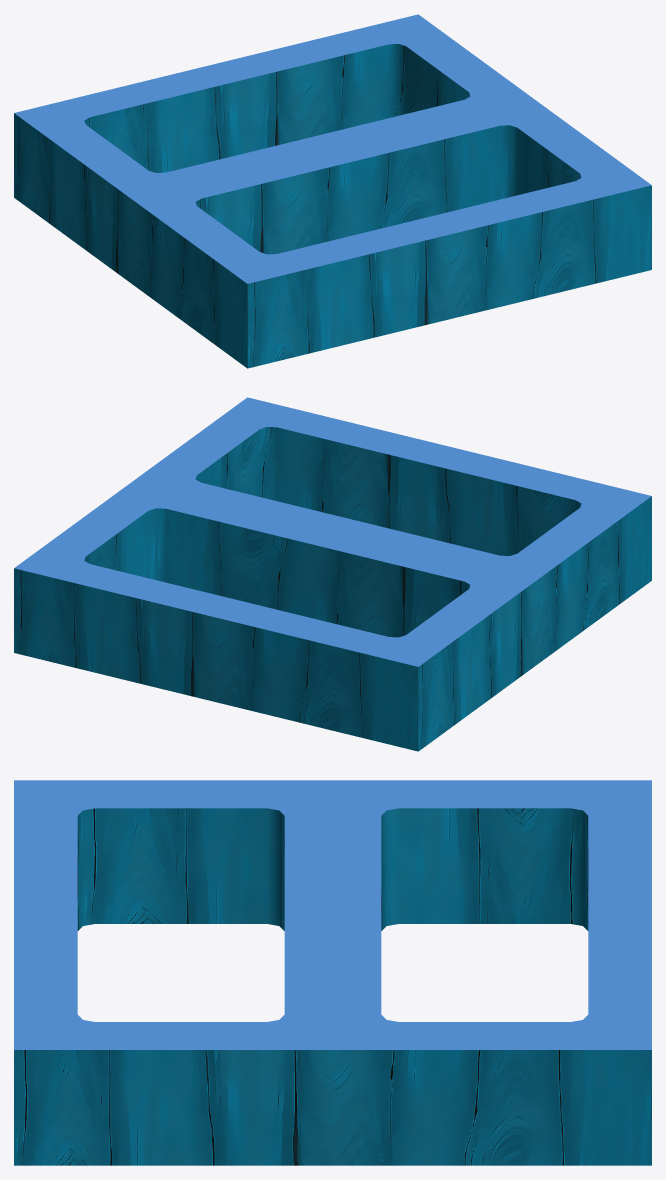
Rendered from M_Tile_Hole_2.fbx.
3 renders of one model, top to bottom at view 1: azimuth 30°, elevation 25°; view 2: azimuth 150°, elevation 25°; view 3: azimuth 270°, elevation 25°, orthographic. The views are drawn at different scales.
Visible parts, largest first — view 1: Hole_2; view 2: Hole_2; view 3: Hole_2.
Part boxes in pixels (left/top/right/bottom): Hole_2: left=14, top=14, right=651, bottom=368; Hole_2: left=14, top=397, right=651, bottom=751; Hole_2: left=14, top=780, right=651, bottom=1165.
Size of the model in its own units: 100 by 20 by 100.
